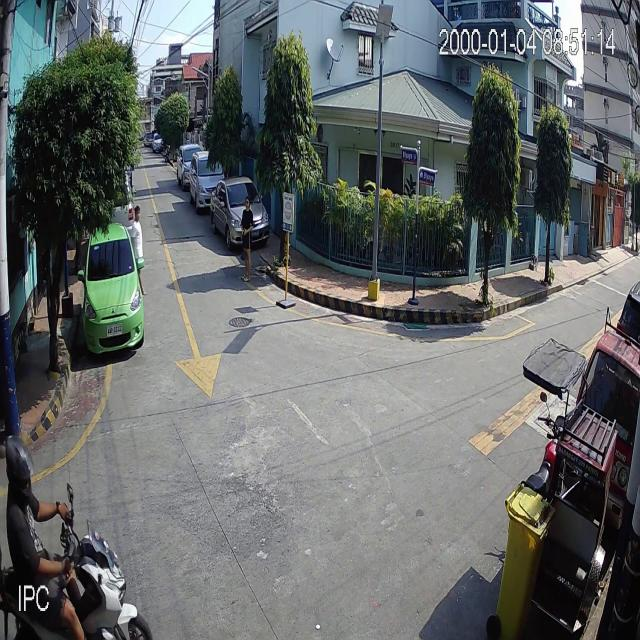standing: (240, 195, 255, 282)
walking: (131, 205, 147, 296)
